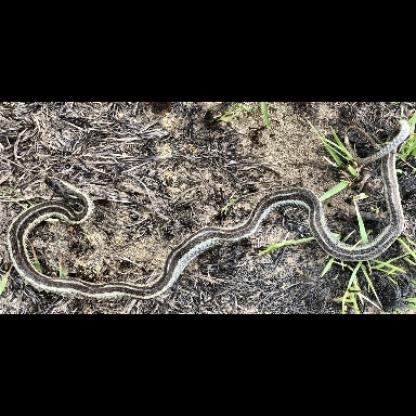Snake: (6, 109, 414, 317)
